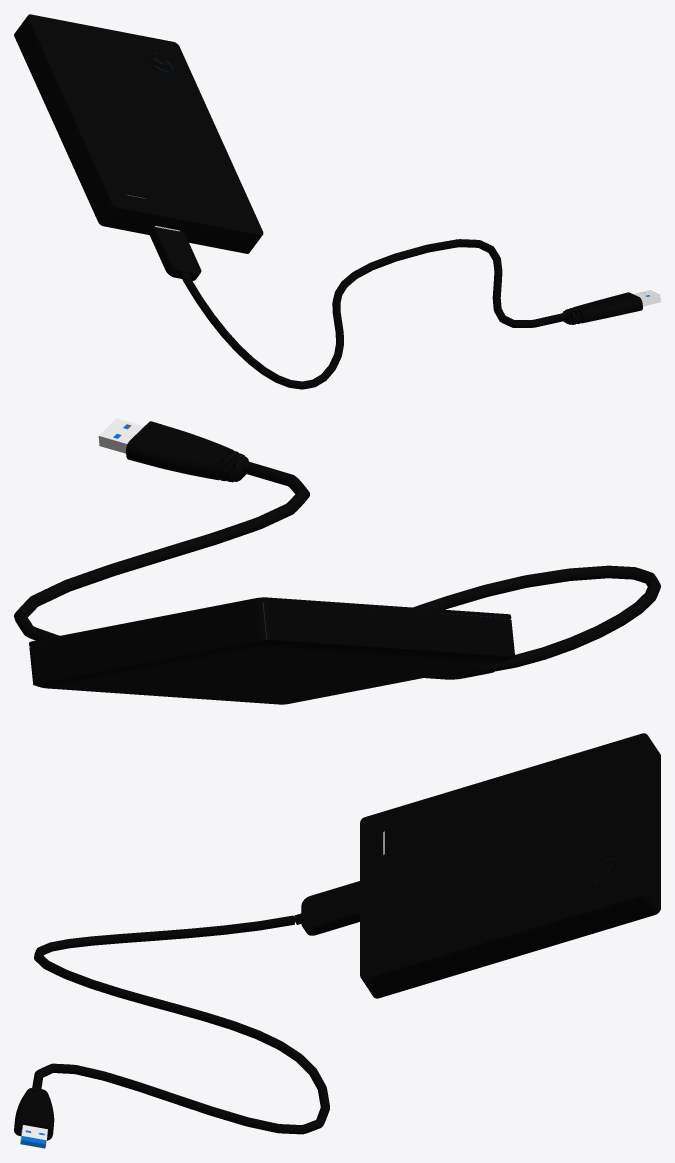
The model's file is drive-2-mahal.glb.
The picture shows the model from 3 angles, top to bottom: view 1: azimuth 30°, elevation 25°; view 2: azimuth 150°, elevation 25°; view 3: azimuth 270°, elevation 25°; orthographic projection. The views are drawn at different scales.
Parts seen in each view (by area): view 1: Cube.619, Circle; view 2: Cube.619, Circle; view 3: Cube.619, Circle.
Part boxes in pixels (x1,y1,x2,y2): Cube.619: (14,14,660,324); Circle: (184,239,566,389); Cube.619: (29,418,515,704); Circle: (14,460,660,671); Cube.619: (14,733,660,1148); Circle: (32,915,329,1134).
Size of the model in its own units: 2.76 by 1.29 by 3.27.
Materials: 2 (1 with a texture image).
